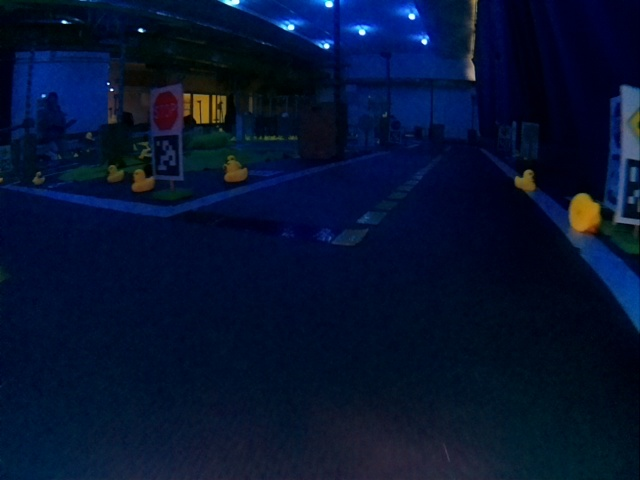Duckie: (570, 194, 600, 233), (224, 162, 248, 182), (132, 172, 155, 192), (514, 170, 536, 190), (107, 165, 125, 183), (32, 172, 45, 184)
QR code: (152, 135, 182, 175), (621, 158, 640, 218)
Stop sign: (152, 90, 178, 131)
